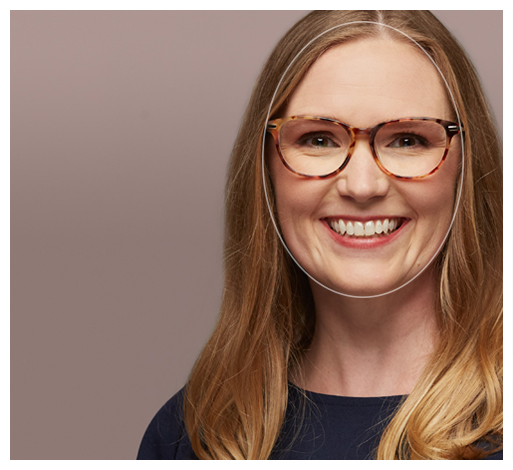sunglasses: (253, 111, 482, 181)
